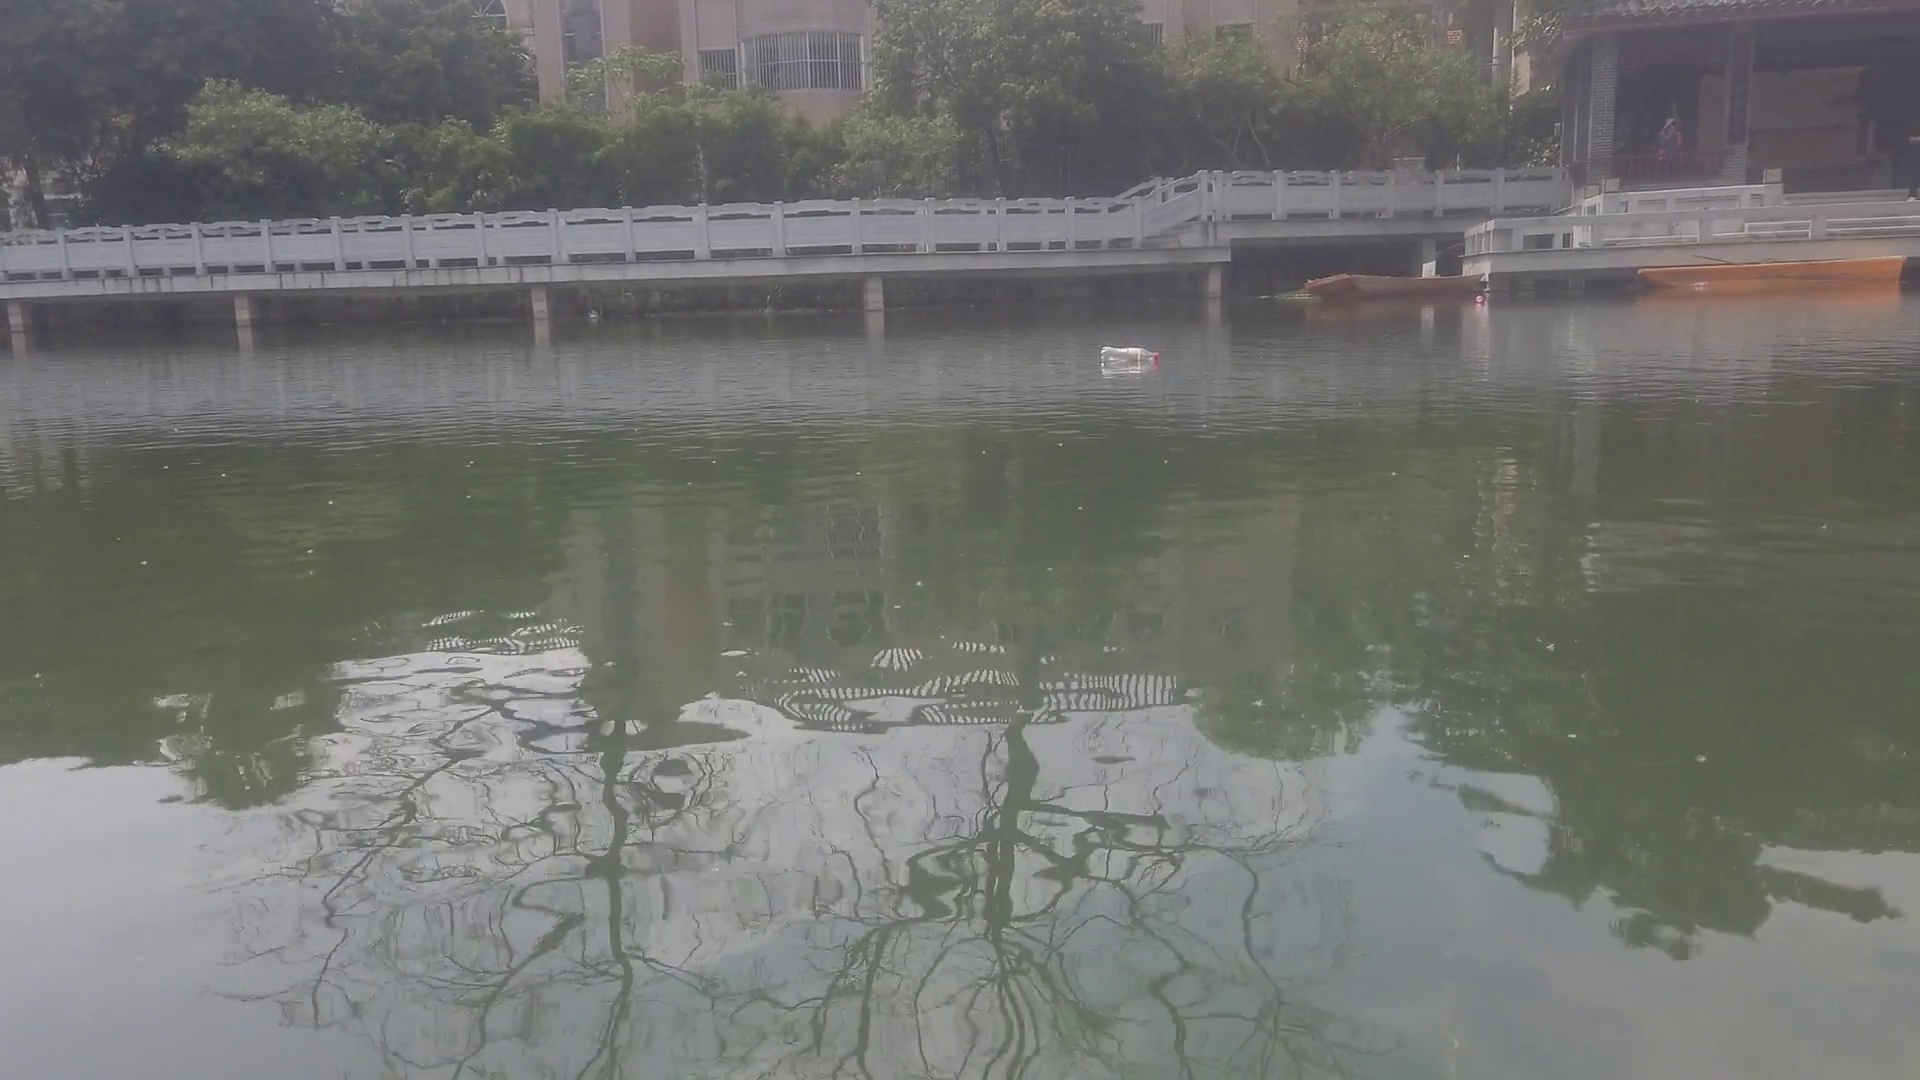bottle: (1097, 342, 1158, 367), (1473, 289, 1487, 307), (1692, 280, 1712, 290)
